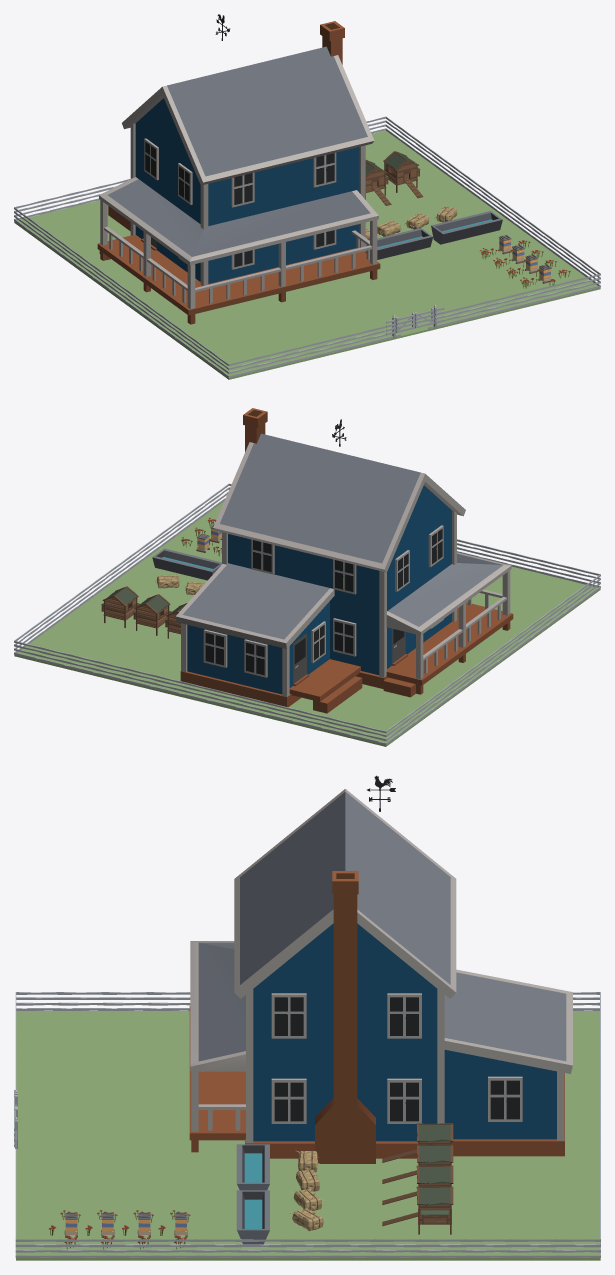
File: ranch.glb
3 renders of one model, top to bottom at view 1: azimuth 30°, elevation 25°; view 2: azimuth 150°, elevation 25°; view 3: azimuth 270°, elevation 25°, orthographic. The views are drawn at different scales.
Parts seen in each view (by area): view 1: RanchHouse, Ground, Trough_2, Trough_1, ChickenCoop_4, FenceGate, ChickenCoop_3; view 2: RanchHouse, Ground, Trough_2, ChickenCoop_4, ChickenCoop_3; view 3: RanchHouse, Ground, Trough_2, ChickenCoop_4, Trough_1, ChickenCoop_1, ChickenCoop_3, ChickenCoop_2.
Boxes of the visible parts, x1,y1,x2,y2 form: RanchHouse: (97,21,380,324); Ground: (14,130,600,379); Trough_2: (431,211,502,244); Trough_1: (365,228,432,259); ChickenCoop_4: (383,151,423,198); FenceGate: (386,304,444,338); ChickenCoop_3: (365,160,391,205); RanchHouse: (175,408,513,713); Ground: (14,501,600,746); Trough_2: (152,548,221,580); ChickenCoop_4: (101,586,140,627); ChickenCoop_3: (133,594,171,635); RanchHouse: (189,789,572,1163); Ground: (16,1011,600,1260); Trough_2: (236,1190,269,1244); ChickenCoop_4: (382,1186,453,1234); Trough_1: (236,1144,269,1190); ChickenCoop_1: (382,1123,453,1162); ChickenCoop_3: (382,1165,453,1204); ChickenCoop_2: (382,1144,453,1183).
Bounding box in the file's own units: 32.05 × 19.47 × 32.13.
Materials: 3 (2 with a texture image).
